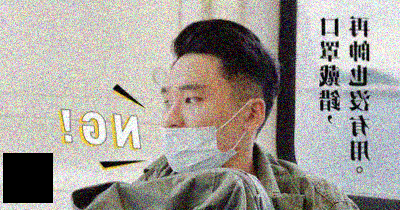mask_weared_incorrect: (159, 81, 237, 173)
